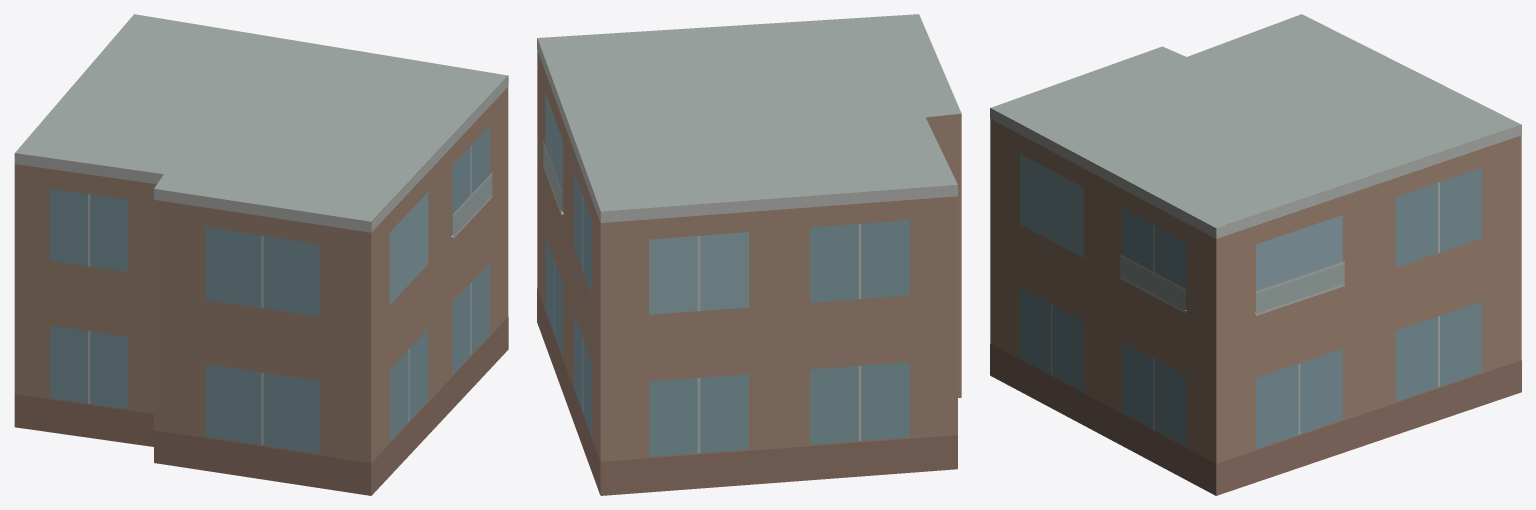
File: survey-upis-33031239.glb
The picture shows the model from 3 angles, left to right: view 1: azimuth 30°, elevation 25°; view 2: azimuth 150°, elevation 25°; view 3: azimuth 270°, elevation 25°; orthographic projection. The views are drawn at different scales.
Parts seen in each view (by area): view 1: survey-upis-33031239.tmp; view 2: survey-upis-33031239.tmp; view 3: survey-upis-33031239.tmp.
Boxes of the visible parts, left/top/right/bottom form: survey-upis-33031239.tmp: left=14, top=14, right=508, bottom=495; survey-upis-33031239.tmp: left=537, top=14, right=961, bottom=495; survey-upis-33031239.tmp: left=990, top=14, right=1521, bottom=495.
Bounding box in the file's own units: 10.48 × 6.1 × 10.99.
